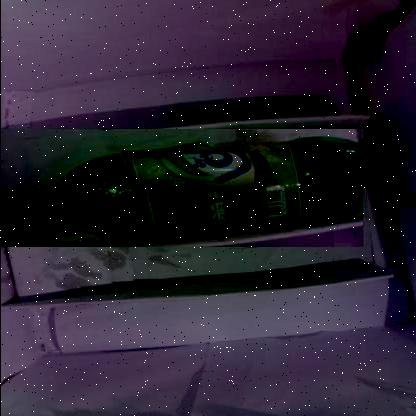Plastic Bottle: (14, 135, 362, 247)
